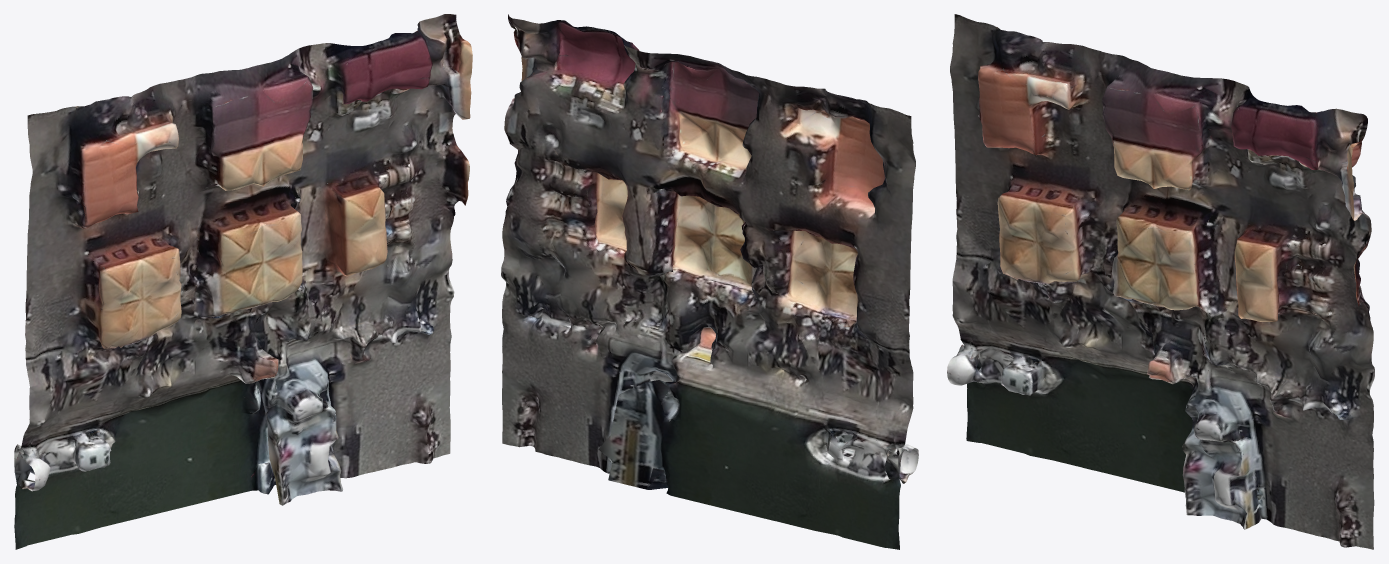
File: Tile_+029_+018_L21_0032200.fbx
The picture shows the model from 3 angles, left to right: view 1: azimuth 30°, elevation 25°; view 2: azimuth 150°, elevation 25°; view 3: azimuth 330°, elevation 25°; orthographic projection. The views are drawn at different scales.
Visible parts, largest first — view 1: DefaultName; view 2: DefaultName; view 3: DefaultName.
Part boxes in pixels (left/top/right/bottom): DefaultName: left=14, top=14, right=472, bottom=549; DefaultName: left=501, top=14, right=918, bottom=549; DefaultName: left=947, top=14, right=1374, bottom=549.
Size of the model in its own units: 31.38 by 31.31 by 5.33.
1 material, 1 textured.
